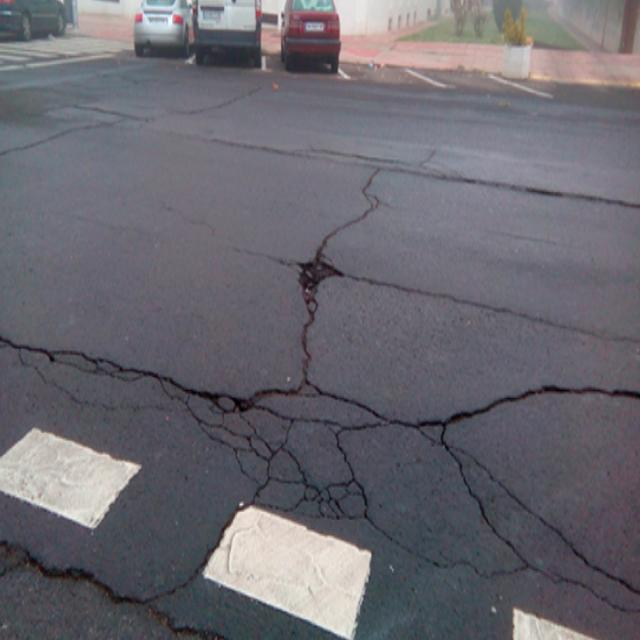Pothole: (15, 338, 266, 640)
